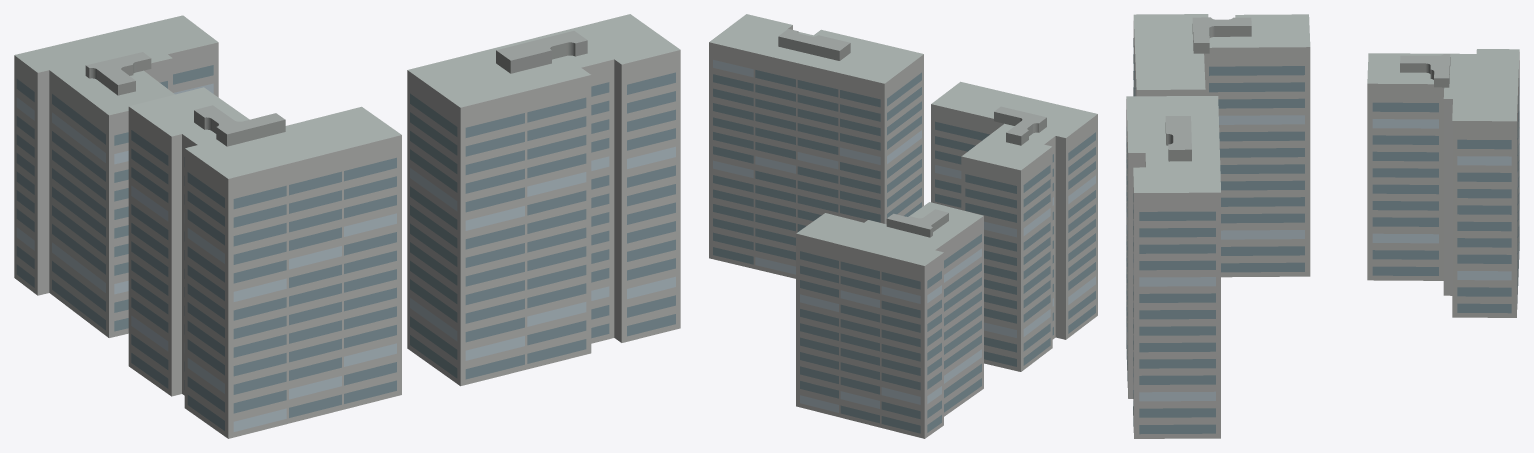
Rendered from apt-a10025386.glb.
3 renders of one model, left to right at view 1: azimuth 30°, elevation 25°; view 2: azimuth 150°, elevation 25°; view 3: azimuth 270°, elevation 25°, orthographic. The views are drawn at different scales.
Parts seen in each view (by area): view 1: apt-a10025386; view 2: apt-a10025386; view 3: apt-a10025386.
Boxes of the visible parts, x1,y1,x2,y2 form: apt-a10025386: (14, 14, 680, 438); apt-a10025386: (709, 14, 1097, 438); apt-a10025386: (1126, 14, 1519, 438).
Size of the model in its own units: 73.35 by 45 by 62.35.
